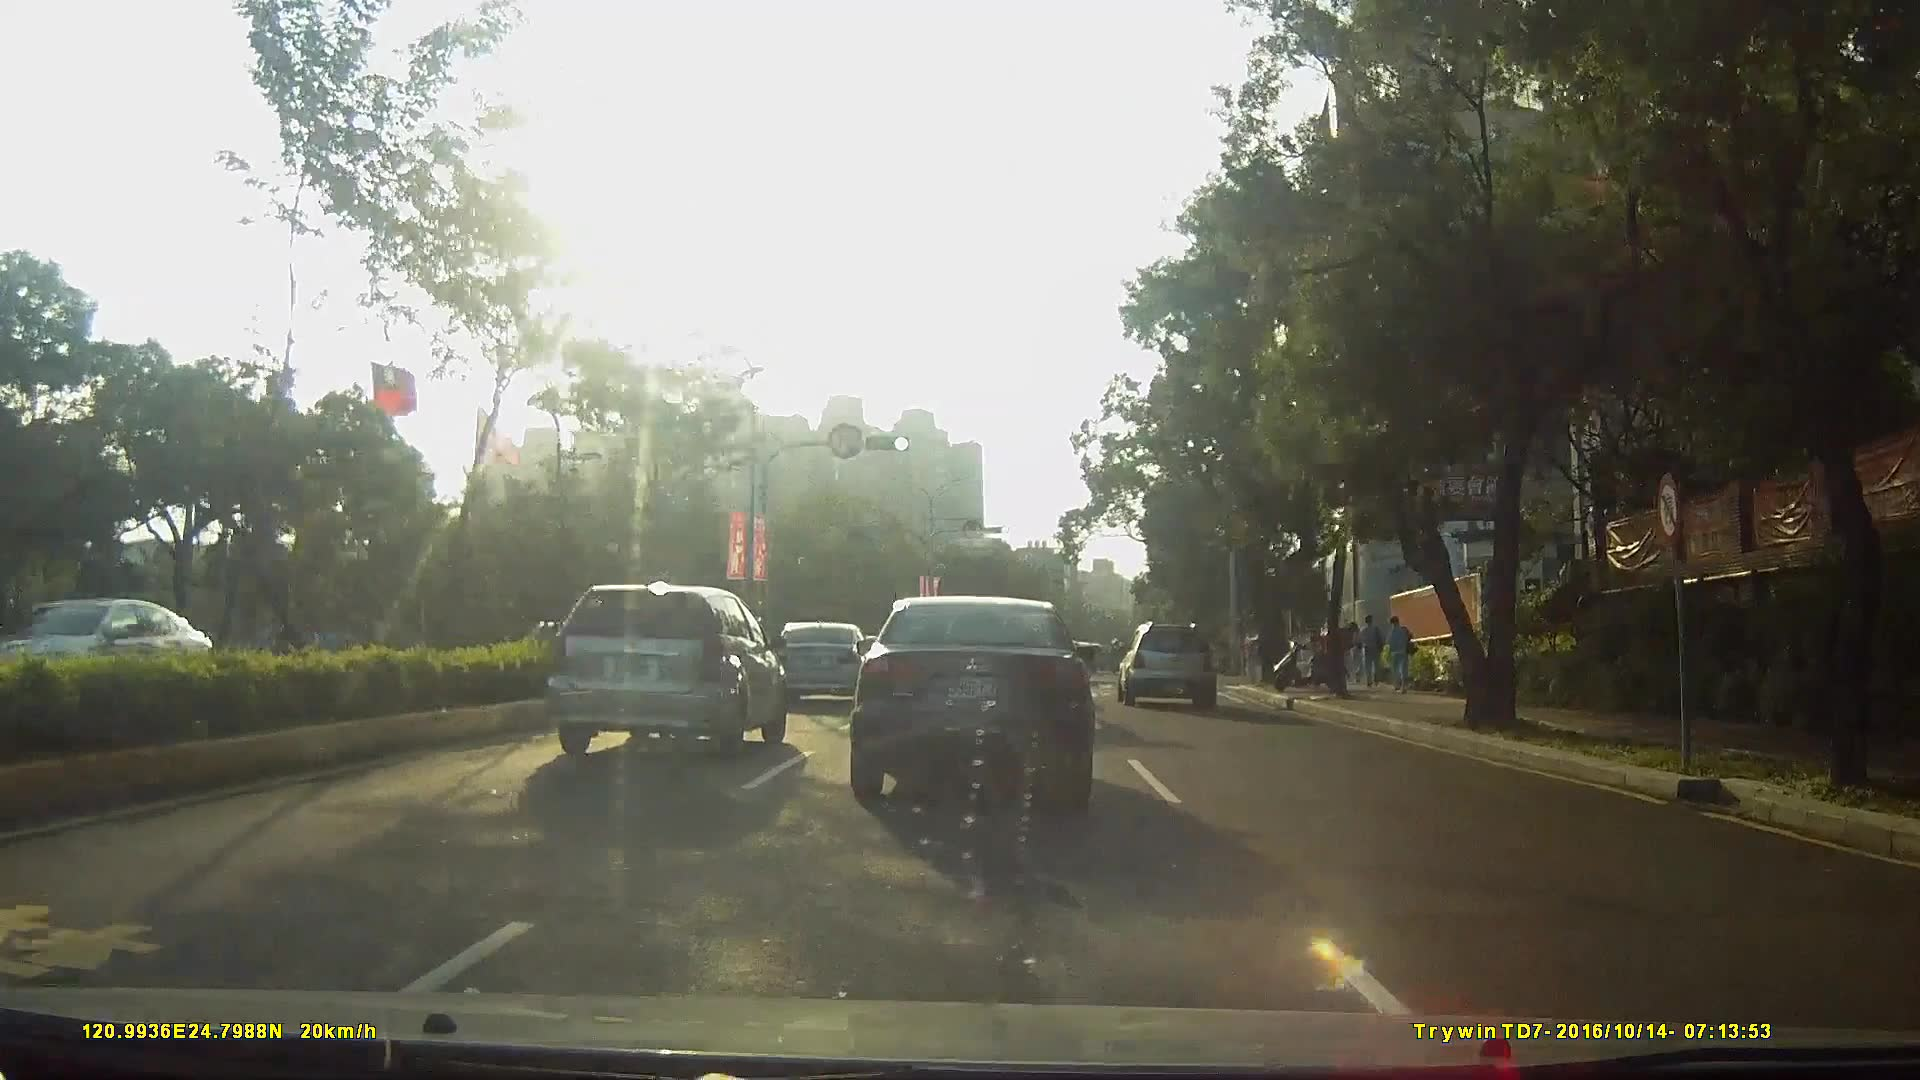pedestrian: (1384, 616, 1416, 699), (1358, 610, 1387, 690)
vehicle: (845, 593, 1092, 810), (542, 579, 788, 756), (1, 594, 225, 703), (1113, 623, 1228, 713), (773, 618, 877, 709)
